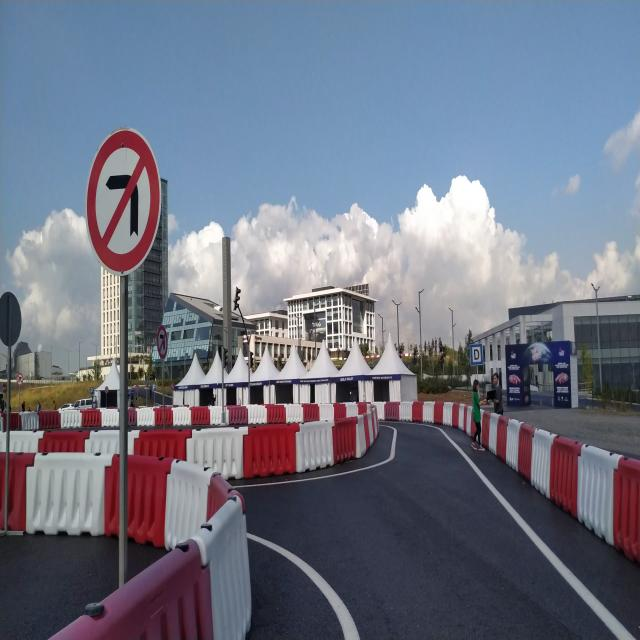forb_stopping: (170, 383, 175, 391), (105, 386, 109, 393), (135, 385, 139, 391)
